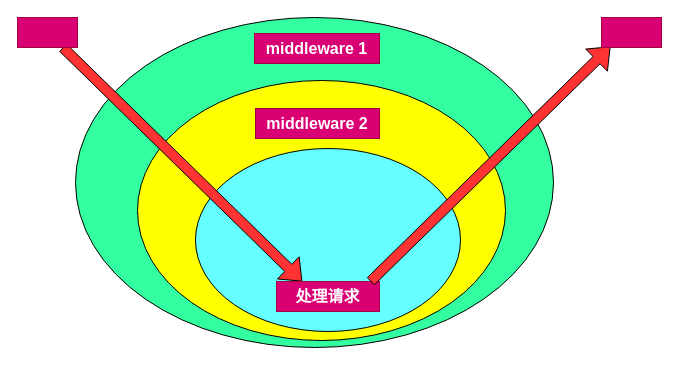
Some shapes in this 679 by 365 pixel diagram are drawn without their labels. The shapes that lost their labels are listed below. From the top down, each one's centre as x and y in pixels, then its label:
At (47,32): "请求".
At (631,32): "响应".
